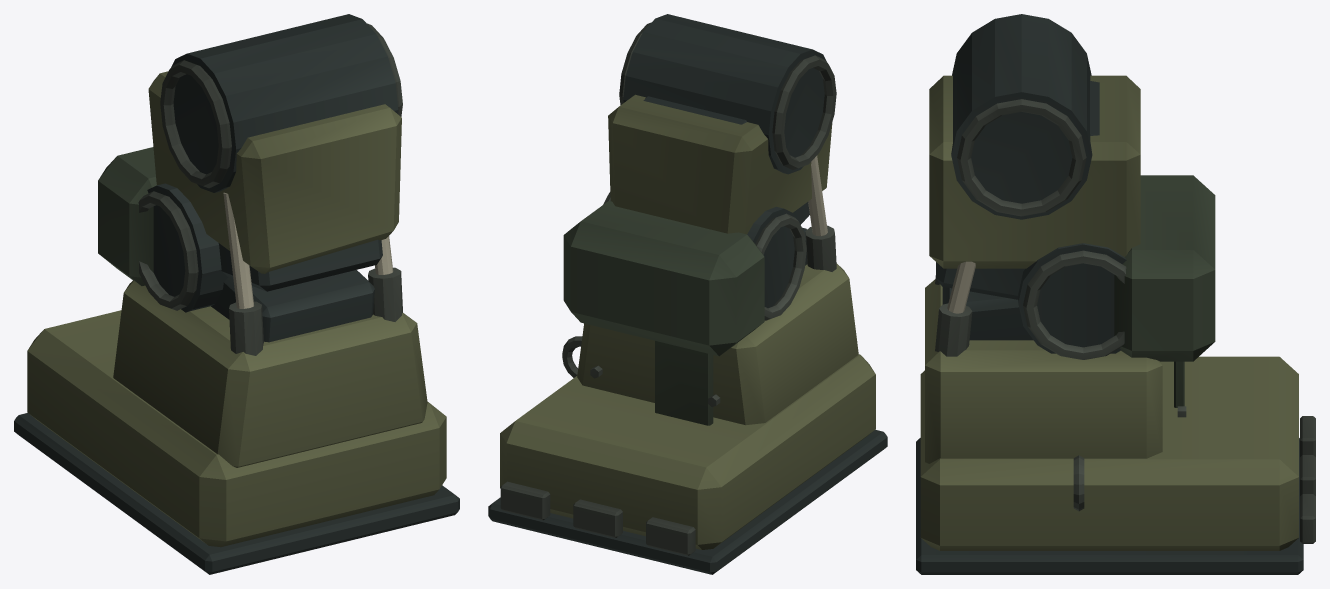
The model's file is right_leg.glb.
The picture shows the model from 3 angles, left to right: view 1: azimuth 30°, elevation 25°; view 2: azimuth 150°, elevation 25°; view 3: azimuth 270°, elevation 25°; orthographic projection. The views are drawn at different scales.
Visible parts, largest first — view 1: Boot_armour, Shin_plate, Thigh_plate, right_Leg_joint, Boot_sole, Shin_core.001, Knee_shield.001, right_Leg_joint.001, right_Joint_collar.001, Angled_thigh_core, right_Joint_collar.003, Calf_ram.003 (+2 smaller); view 2: Boot_armour, Knee_shield.001, Thigh_plate, Shin_plate, right_Leg_joint, Boot_sole, Shin_disruptive_patch.001, right_Joint_collar.001, right_Leg_joint.001, right_Joint_collar.003, Toe_tread.005, Toe_tread.004 (+4 smaller); view 3: Boot_armour, Shin_plate, right_Leg_joint, Thigh_plate, Knee_shield.001, Boot_sole, right_Leg_joint.001, right_Joint_collar.002, right_Joint_collar.004, Shin_core.001, Angled_thigh_core, Calf_ram (+6 smaller).
Boxes of the visible parts, x1,y1,x2,y2 form: Boot_armour: [27, 310, 446, 547]; Shin_plate: [113, 280, 427, 467]; Thigh_plate: [148, 71, 401, 273]; right_Leg_joint: [171, 14, 398, 192]; Boot_sole: [14, 413, 459, 574]; Shin_core.001: [211, 270, 374, 342]; Knee_shield.001: [98, 147, 156, 285]; right_Leg_joint.001: [147, 183, 228, 312]; right_Joint_collar.001: [160, 60, 231, 188]; Angled_thigh_core: [218, 239, 382, 291]; right_Joint_collar.003: [138, 191, 198, 310]; Calf_ram.003: [229, 301, 263, 355]; Boot_armour: [500, 354, 875, 549]; Knee_shield.001: [563, 201, 764, 356]; Thigh_plate: [608, 94, 832, 234]; Shin_plate: [577, 263, 858, 425]; right_Leg_joint: [623, 14, 826, 174]; Boot_sole: [488, 430, 887, 574]; Shin_disruptive_patch.001: [655, 341, 713, 425]; right_Joint_collar.001: [772, 55, 836, 169]; right_Leg_joint.001: [610, 200, 795, 308]; right_Joint_collar.003: [755, 213, 806, 320]; Toe_tread.005: [500, 481, 550, 520]; Toe_tread.004: [573, 499, 622, 537]; Boot_armour: [920, 356, 1298, 550]; Shin_plate: [925, 279, 1162, 464]; right_Leg_joint: [951, 14, 1092, 219]; Thigh_plate: [929, 75, 1140, 268]; Knee_shield.001: [1114, 175, 1215, 361]; Boot_sole: [916, 438, 1303, 574]; right_Leg_joint.001: [1018, 243, 1126, 353]; right_Joint_collar.002: [957, 99, 1086, 216]; right_Joint_collar.004: [1023, 250, 1126, 359]; Shin_core.001: [942, 287, 1033, 340]; Angled_thigh_core: [936, 81, 1099, 299]; Calf_ram: [935, 303, 972, 356].
Size of the model in its own units: 0.367 by 0.58 by 0.454.
